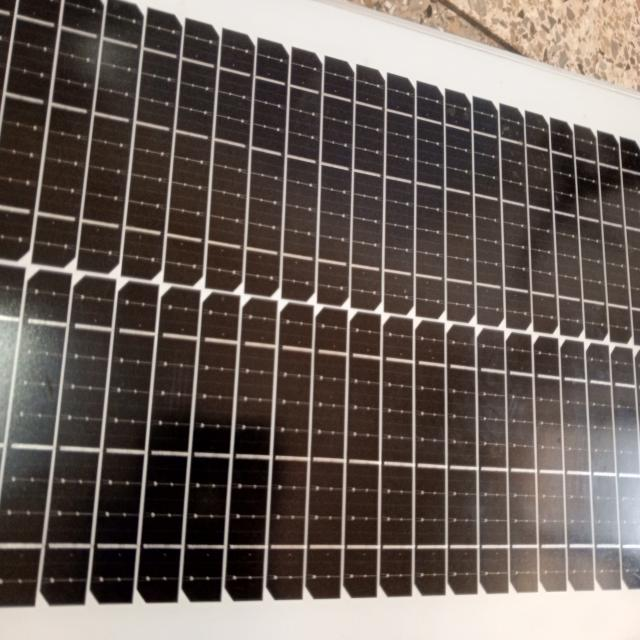Clean: (7, 103, 624, 619)
